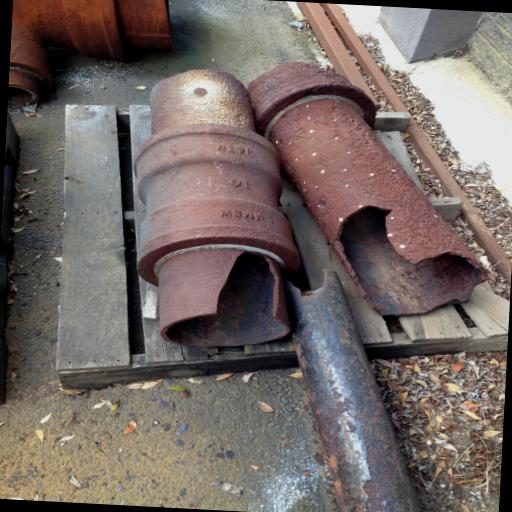corrosion: (223, 34, 493, 349), (130, 66, 303, 346), (13, 0, 171, 61), (8, 23, 54, 104), (343, 169, 348, 172)
